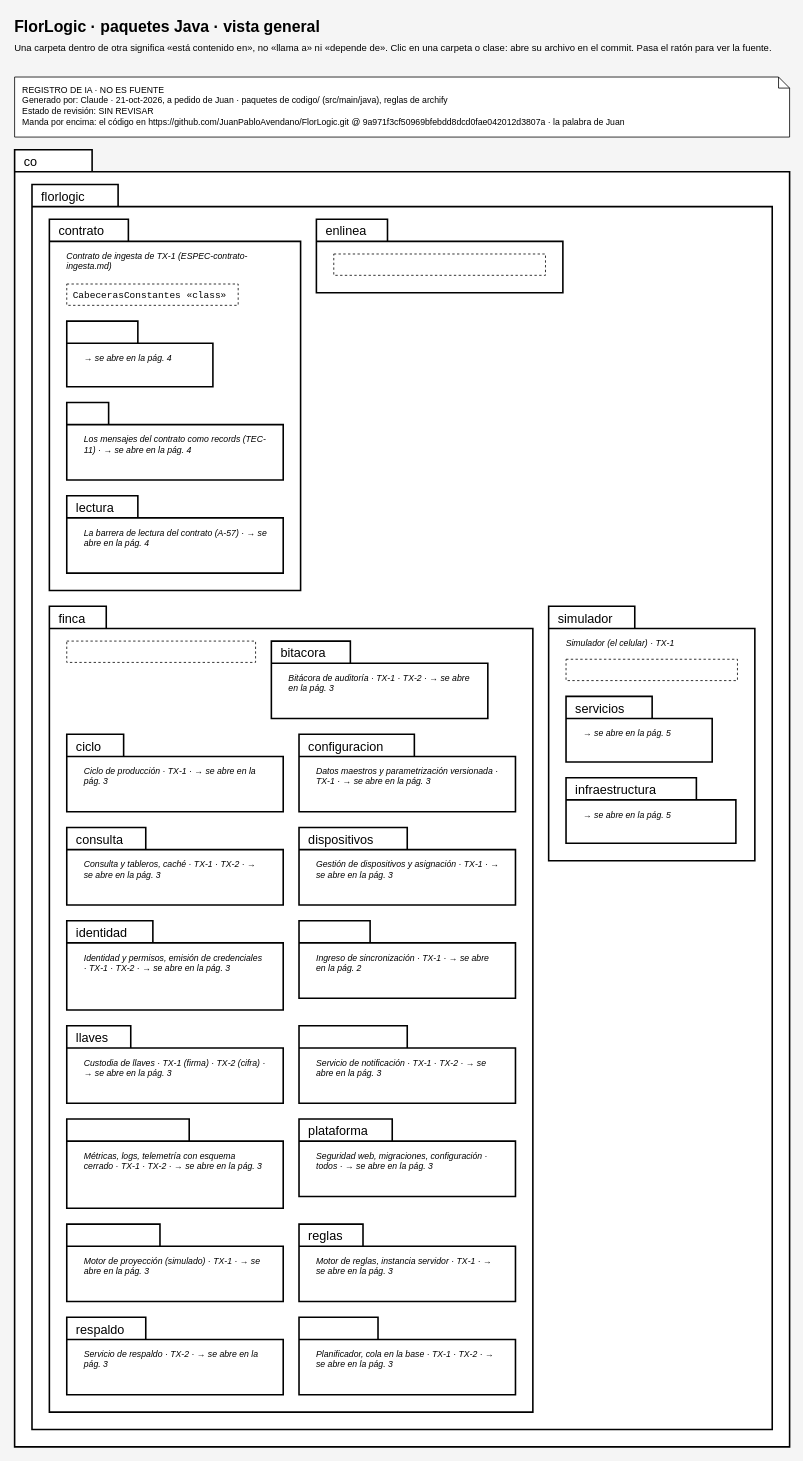
The diagram is 803 pixels wide and 1461 high, and some of its shapes have lost their labels. Here are the shapes that lost their labels. From the top down, the box of each, then its label:
(333, 253, 545, 275): ServiciosEnLineaAplicacion «class»
(66, 320, 213, 387): codigos
(66, 401, 284, 480): dto
(66, 640, 256, 662): BackendFincaAplicacion «class»
(565, 658, 737, 681): SimuladorAplicacion «class»
(298, 920, 516, 999): ingesta
(298, 1025, 516, 1104): notificacion
(66, 1118, 284, 1209): observabilidad
(66, 1223, 284, 1302): proyeccion
(298, 1316, 516, 1395): trabajos
